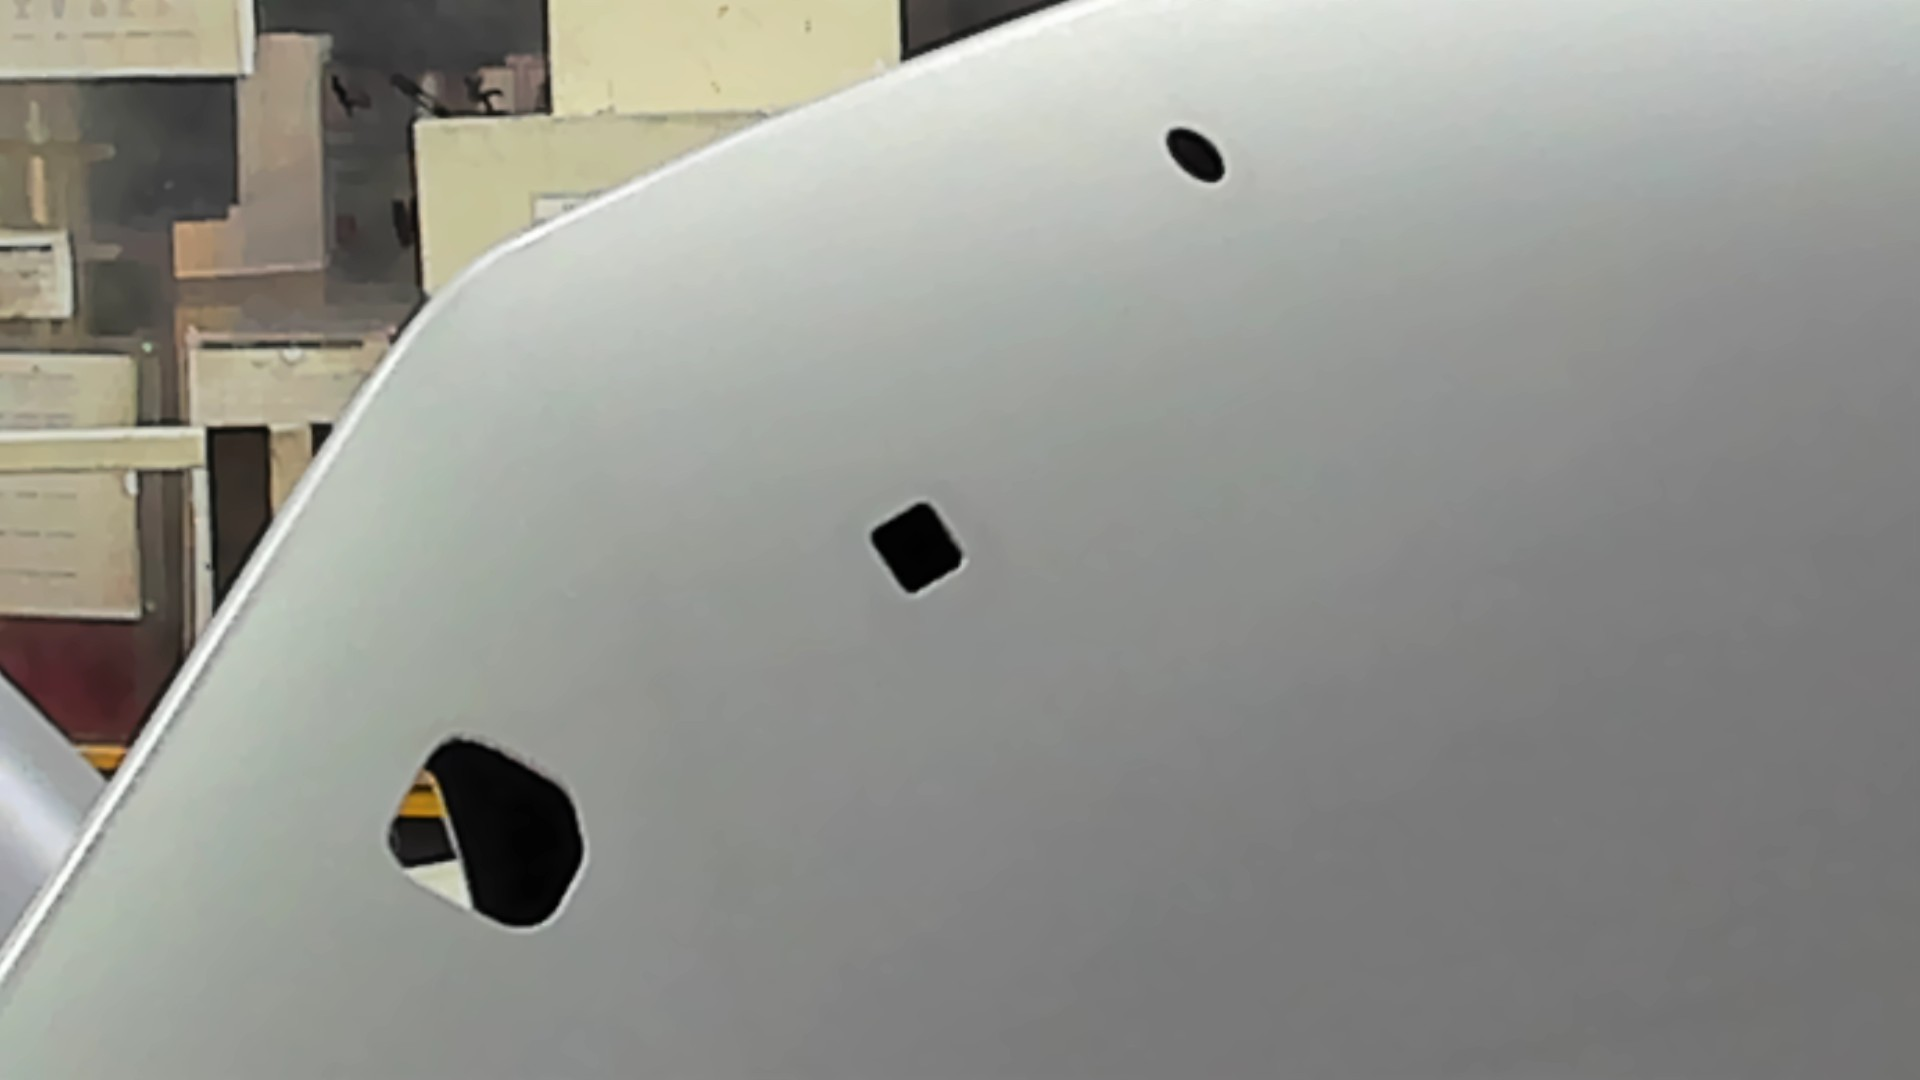chico: (1163, 123, 1232, 193)
grande: (378, 729, 592, 942)
mediano: (861, 491, 977, 608)
